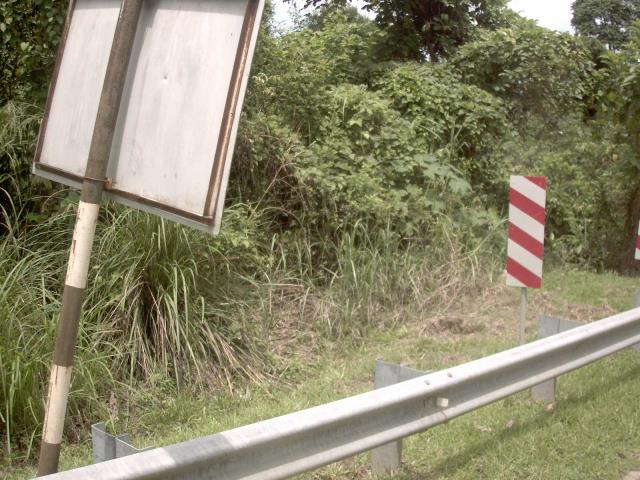traffic_sign: (494, 164, 555, 300)
